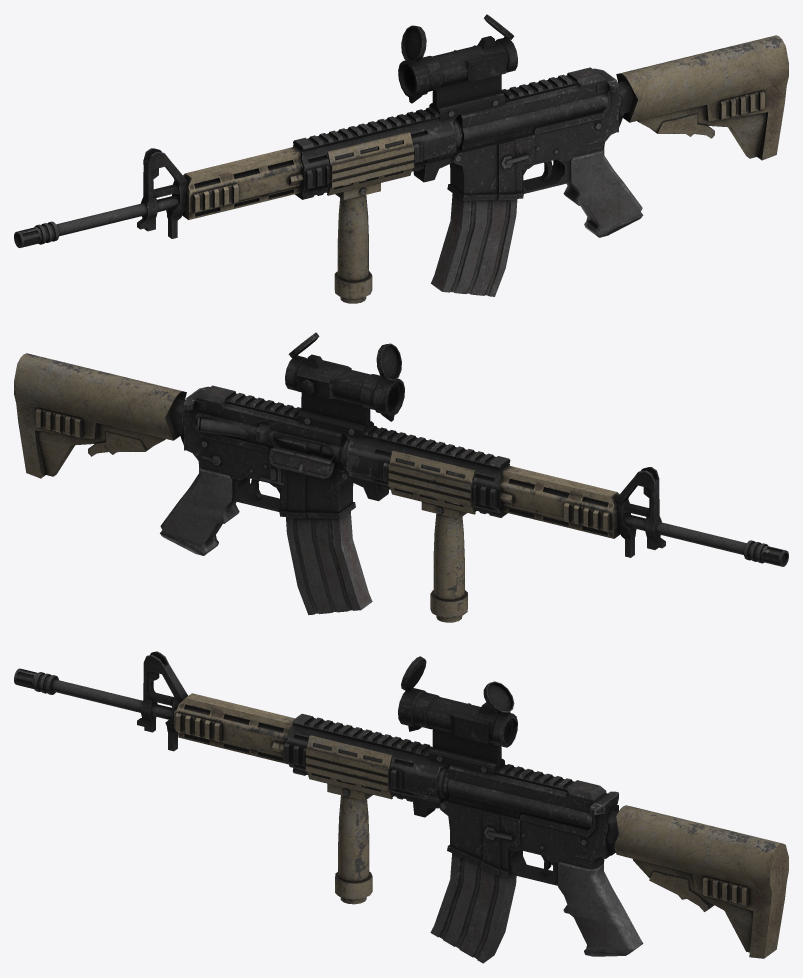
The model's file is Colt_child.fbx.
3 views of the same model, one above another, from view 1: azimuth 30°, elevation 25°; view 2: azimuth 150°, elevation 25°; view 3: azimuth 330°, elevation 25° (orthographic).
Parts seen in each view (by area): view 1: polySurface530, polySurface593, polySurface380; view 2: polySurface530, polySurface593, polySurface380; view 3: polySurface530, polySurface593, polySurface380.
Part boxes in pixels (x1=…): polySurface530: x1=14, y1=14, x2=788, y2=296; polySurface593: x1=182, y1=147, x2=302, y2=219; polySurface380: x1=334, y1=177, x2=380, y2=303; polySurface530: x1=14, y1=332, x2=788, y2=615; polySurface593: x1=499, y1=465, x2=620, y2=538; polySurface380: x1=421, y1=495, x2=467, y2=622; polySurface530: x1=14, y1=651, x2=788, y2=963; polySurface593: x1=174, y1=693, x2=294, y2=764; polySurface380: x1=327, y1=779, x2=372, y2=904.
Size of the model in its own units: 18 by 6.41 by 1.14.
